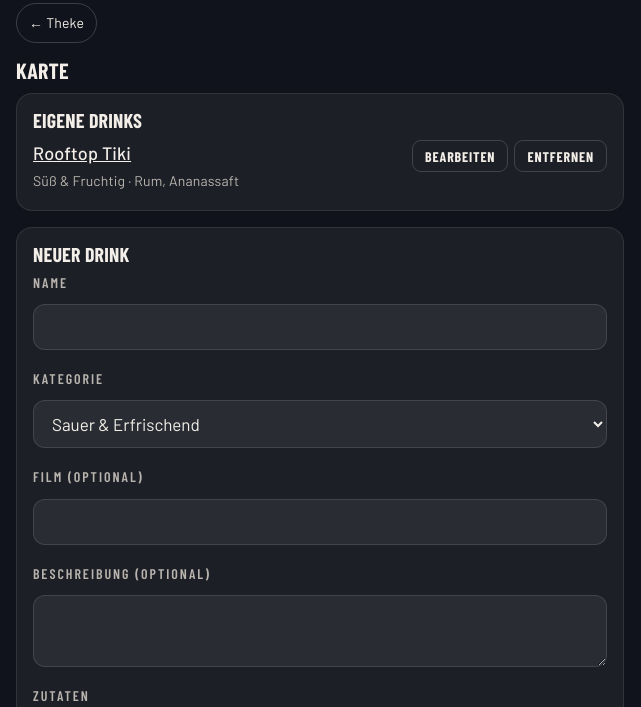
Test: MenuEditorPage › editing › saves the changes for this drink and returns to "new drink"
The image size is (641, 707).
Click the button with aria-label "Rooftop Tiki bearbeiten" at point(460, 156), box [412,140,508,172]
(page scrolled)
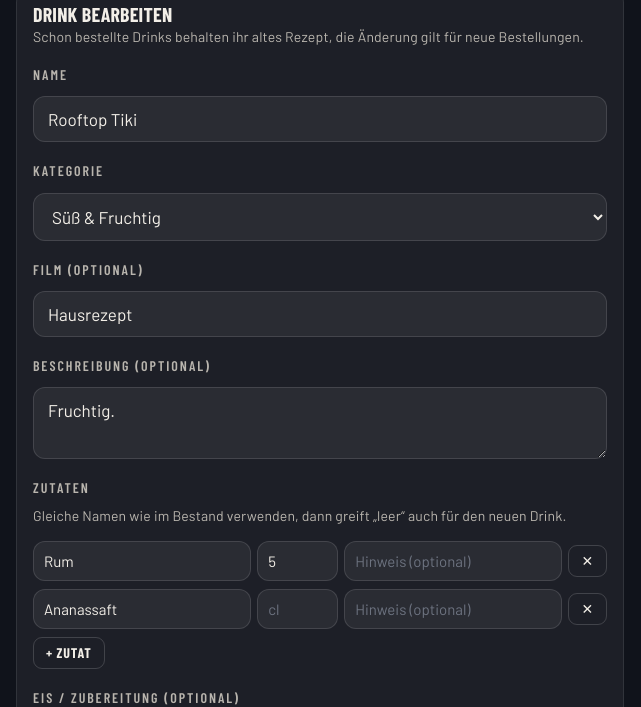
Replace the text in the field labelled "Name" with "Tiki Deluxe" at point(320, 120), box [33,96,607,142]
(page scrolled)
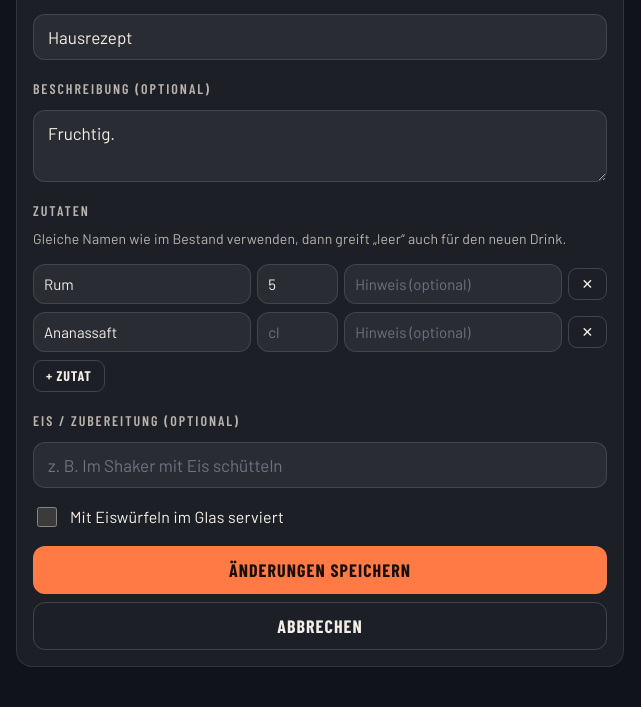
Click the button "Änderungen speichern" at point(320, 570), box [33,546,607,594]
(page scrolled)
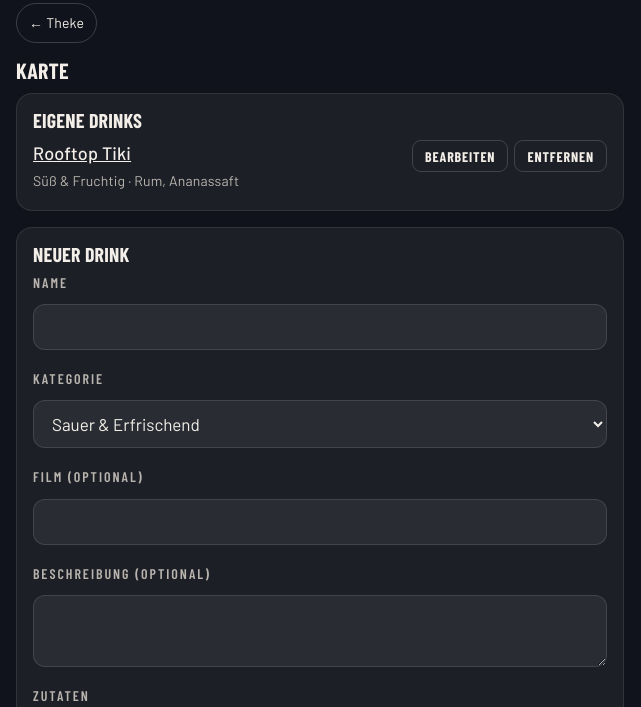
expect the heading "Neuer Drink" is shown: met, box [33,242,130,266]
